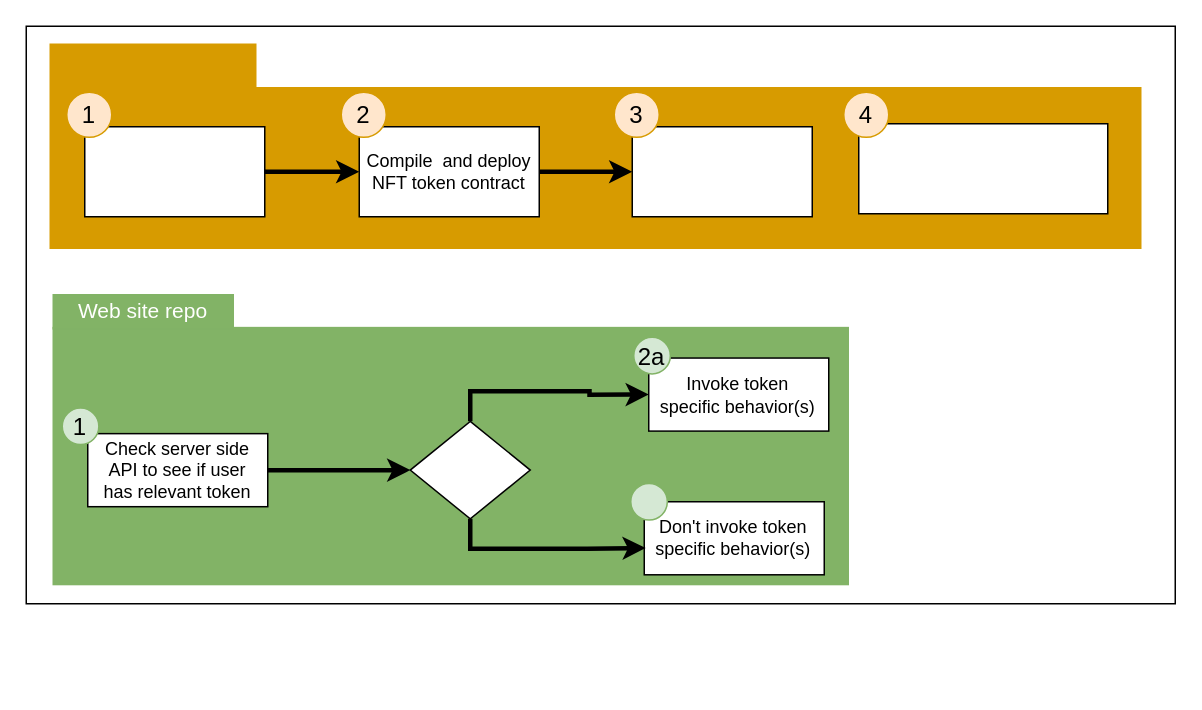
The diagram is 1202 pixels wide and 710 high, and some of its shapes have lost their labels. The centre of each missing label's shape, as x and y in pixels:
2b: (x=648, y=501)
Create NFT token contract: (x=174, y=171)
HardHat repo: (x=152, y=64)
Has token?: (x=469, y=469)
Mint and transfer a token to a user address while providing the IPFS metadata: (x=982, y=168)
Post image and metadata for NFT token to IPFS: (x=721, y=171)
